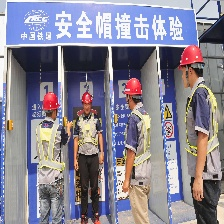helmet: (178, 45, 206, 76), (124, 76, 144, 98), (42, 90, 60, 112), (81, 91, 93, 107)
person: (179, 45, 224, 224), (122, 77, 156, 224), (36, 90, 70, 224), (73, 89, 104, 224)
